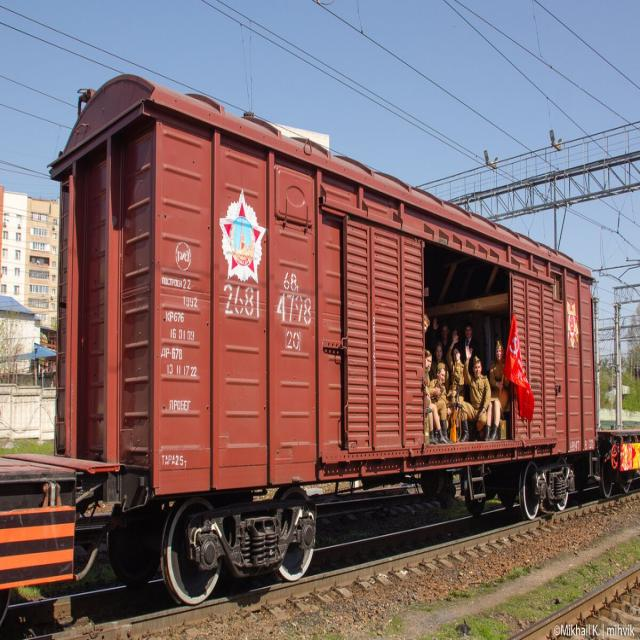boxcar: (41, 48, 617, 612)
